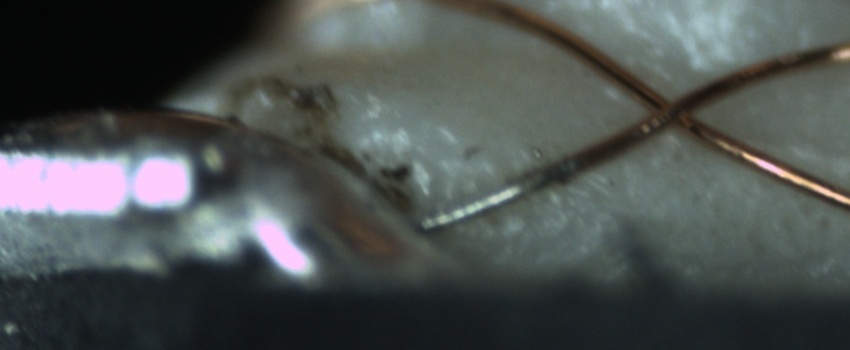CL: (624, 77, 719, 141)
TS: (416, 157, 574, 232)
